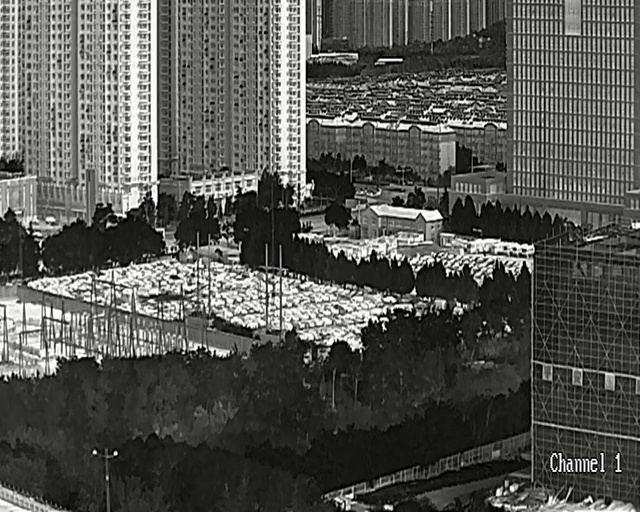uav: (472, 33, 490, 47)
